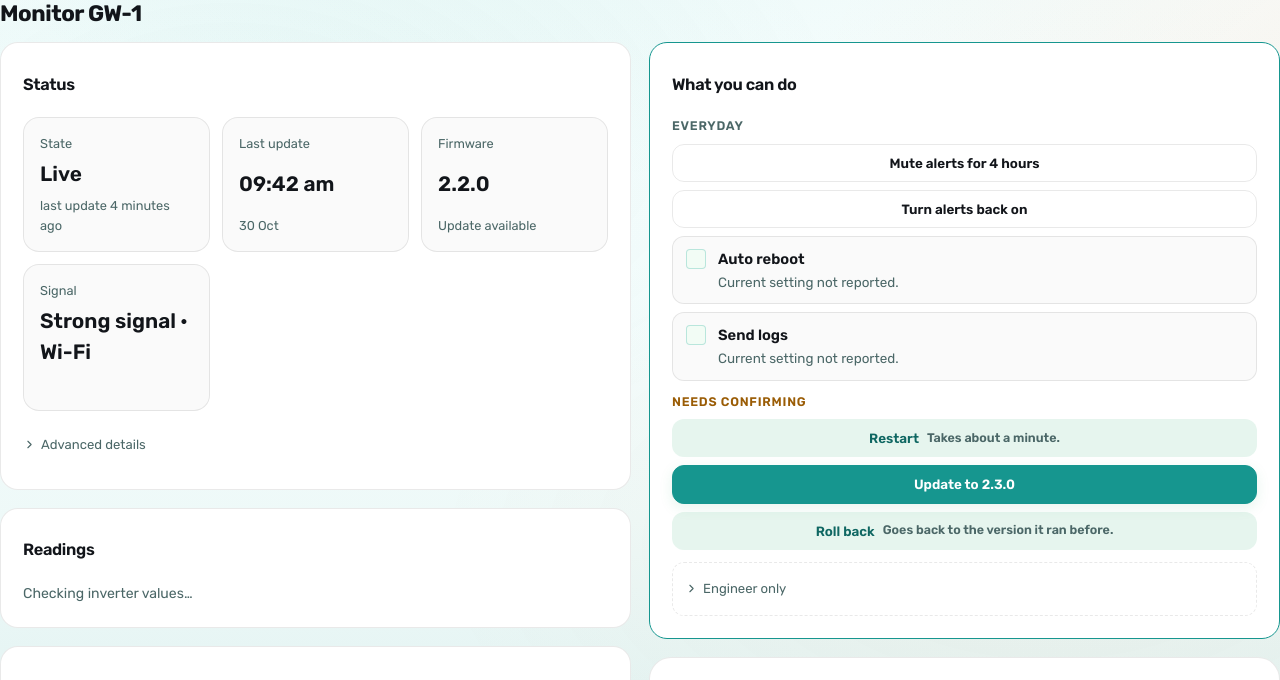
DevicePage › restart asks first, by pk (CF-1, CF-2)
Step 1. Click the button "Restart Takes about a minute." → (964, 438), box [672,419,1257,457]
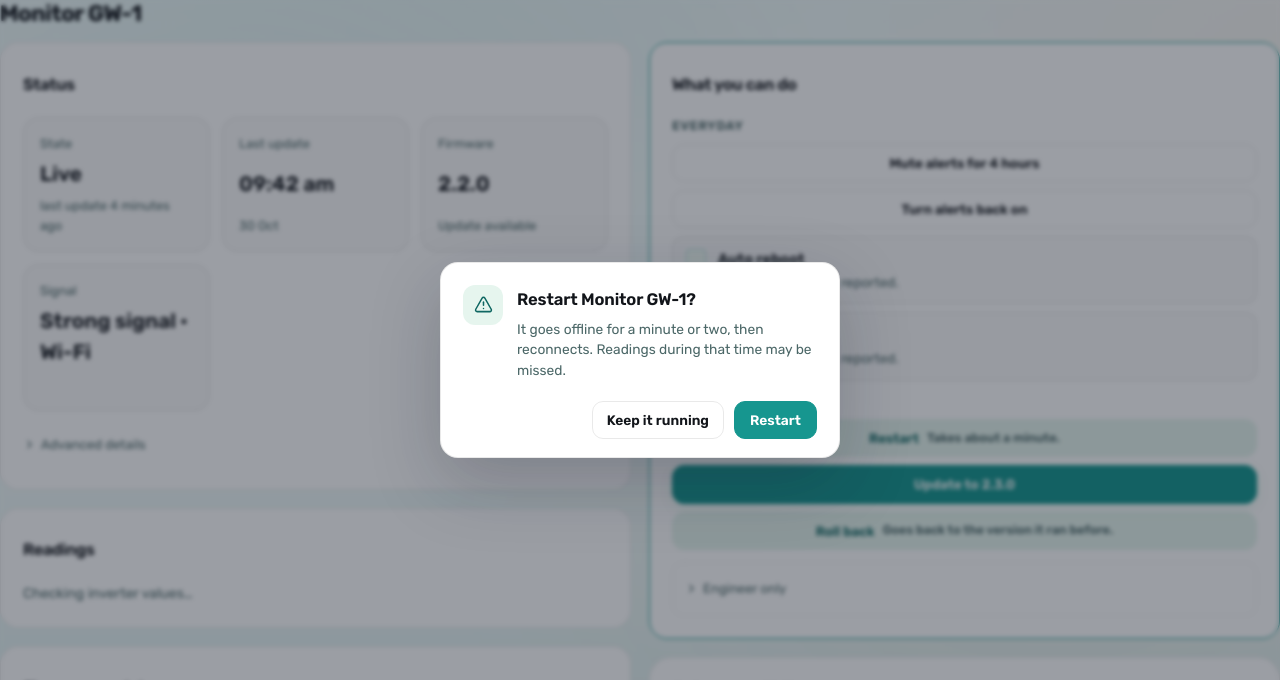
Step 2. Click the button "Keep it running" → (658, 420), box [592,401,724,439]
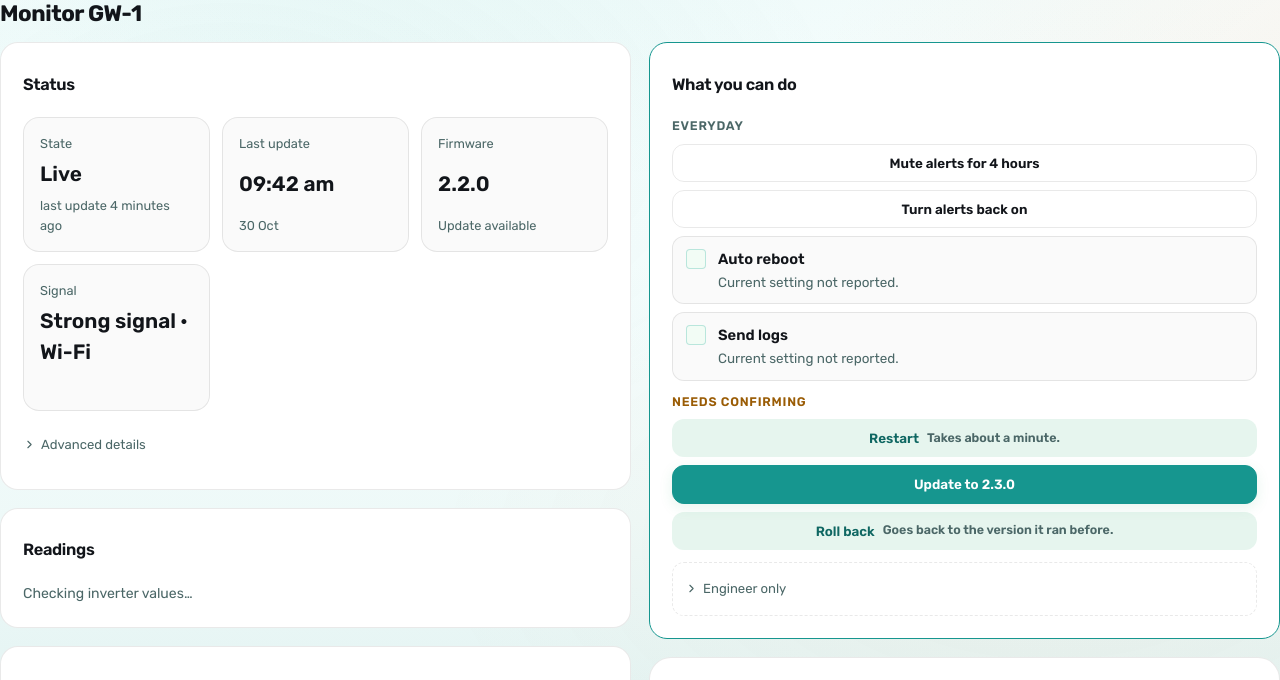
Step 3. Click the button "Restart Takes about a minute." → (964, 438), box [672,419,1257,457]
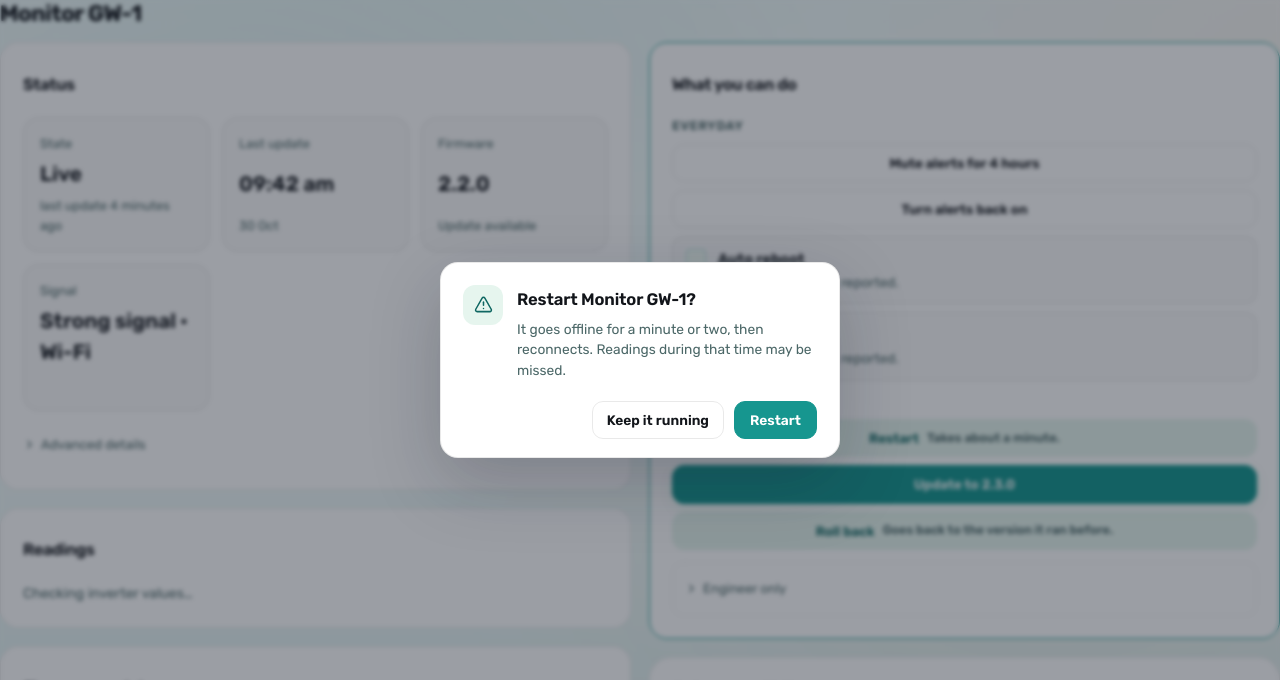
Step 4. Click the button "Restart" → (776, 420), box [734,401,817,439]
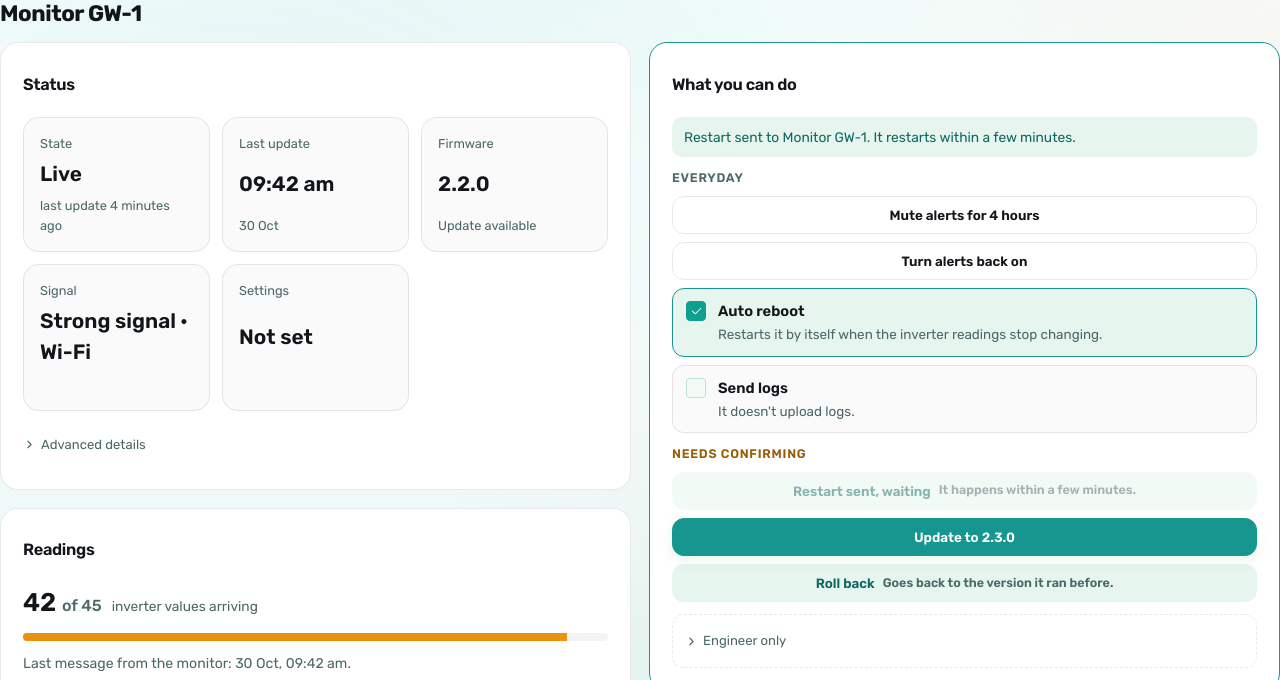
Expected: the text "Restart sent to Monitor GW-1. It restarts within a few minutes." is shown, [672,117,1257,157]
